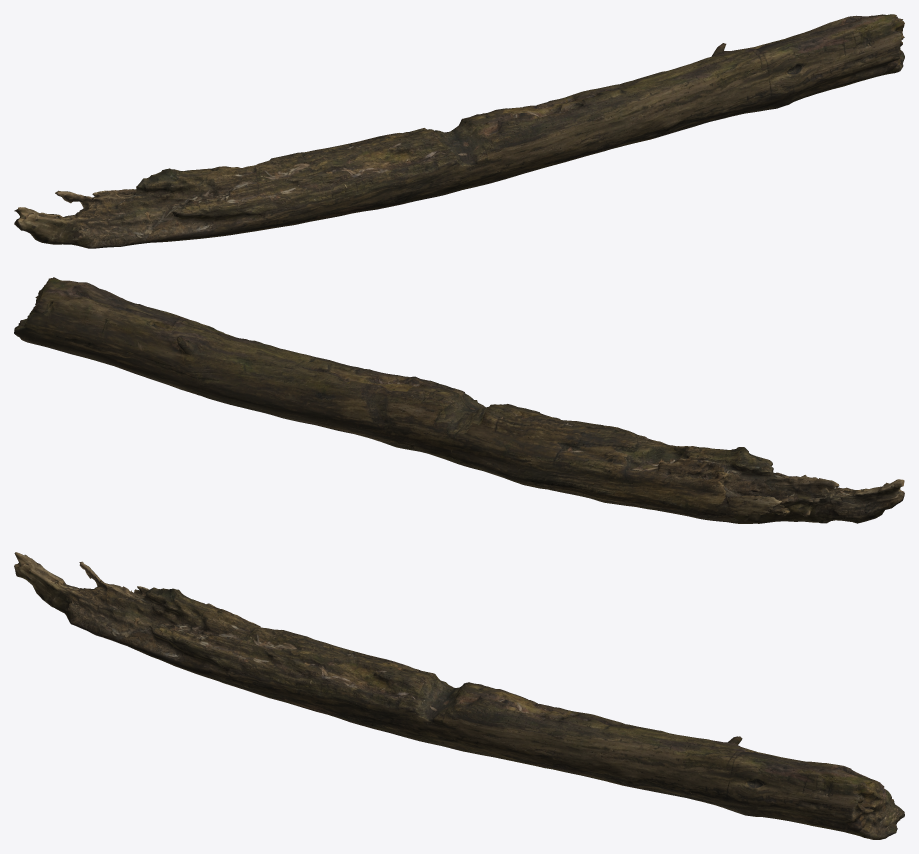
File: dead_tree_trunk.glb
3 views of the same model, one above another, from view 1: azimuth 30°, elevation 25°; view 2: azimuth 150°, elevation 25°; view 3: azimuth 330°, elevation 25° (orthographic).
Visible parts, largest first — view 1: dead_tree_trunk_0; view 2: dead_tree_trunk_0; view 3: dead_tree_trunk_0.
Boxes of the visible parts, box(x1,y1,x2,y2) form: dead_tree_trunk_0: box(14, 14, 904, 248); dead_tree_trunk_0: box(14, 277, 904, 523); dead_tree_trunk_0: box(14, 552, 904, 839).
Size of the model in its own units: 3.05 by 0.2895 by 0.2766.
1 material, 1 textured.
